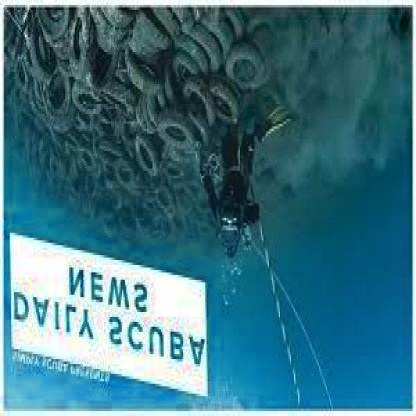tire: (4, 12, 255, 129), (11, 132, 201, 226)
